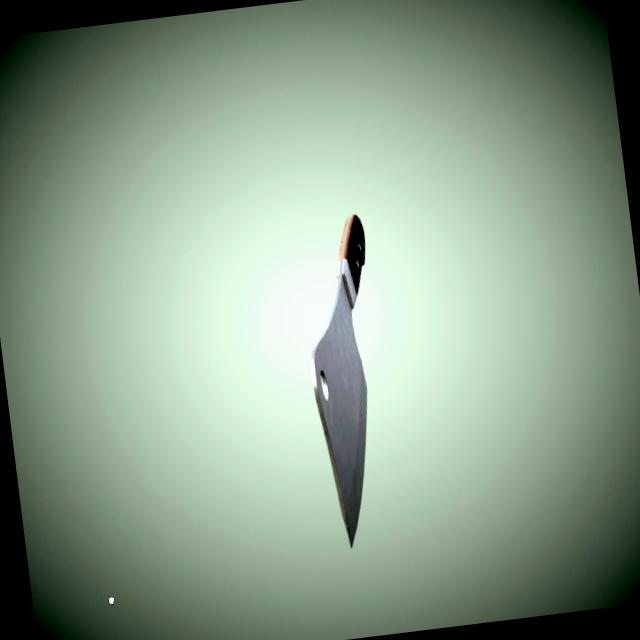cleaver: (275, 183, 415, 571)
